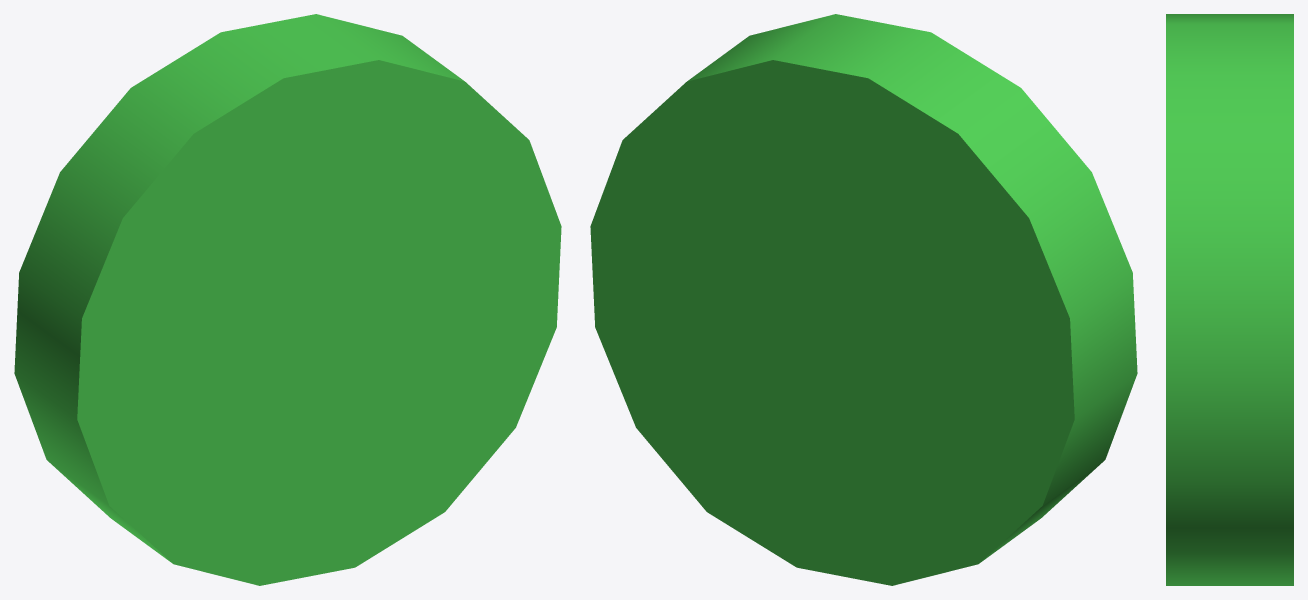
The model's file is Lever_Special_01_Pictures.fbx.
The picture shows the model from 3 angles, left to right: view 1: azimuth 30°, elevation 25°; view 2: azimuth 150°, elevation 25°; view 3: azimuth 270°, elevation 25°; orthographic projection.
Visible parts, largest first — view 1: Lever_Special_01_Pictures; view 2: Lever_Special_01_Pictures; view 3: Lever_Special_01_Pictures.
Part boxes in pixels (x1,y1,x2,y2): Lever_Special_01_Pictures: [14, 14, 561, 585]; Lever_Special_01_Pictures: [590, 14, 1137, 585]; Lever_Special_01_Pictures: [1166, 14, 1293, 585].
Bounding box in the file's own units: 9.34 × 9.34 × 2.1.
